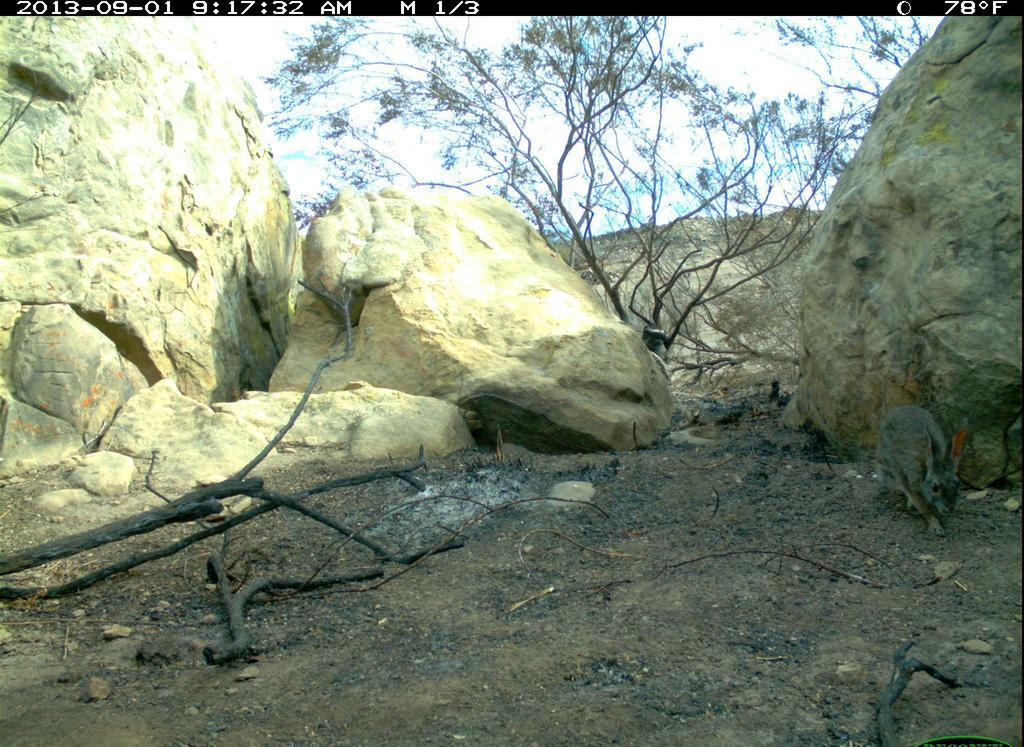rabbit: (870, 393, 976, 539)
